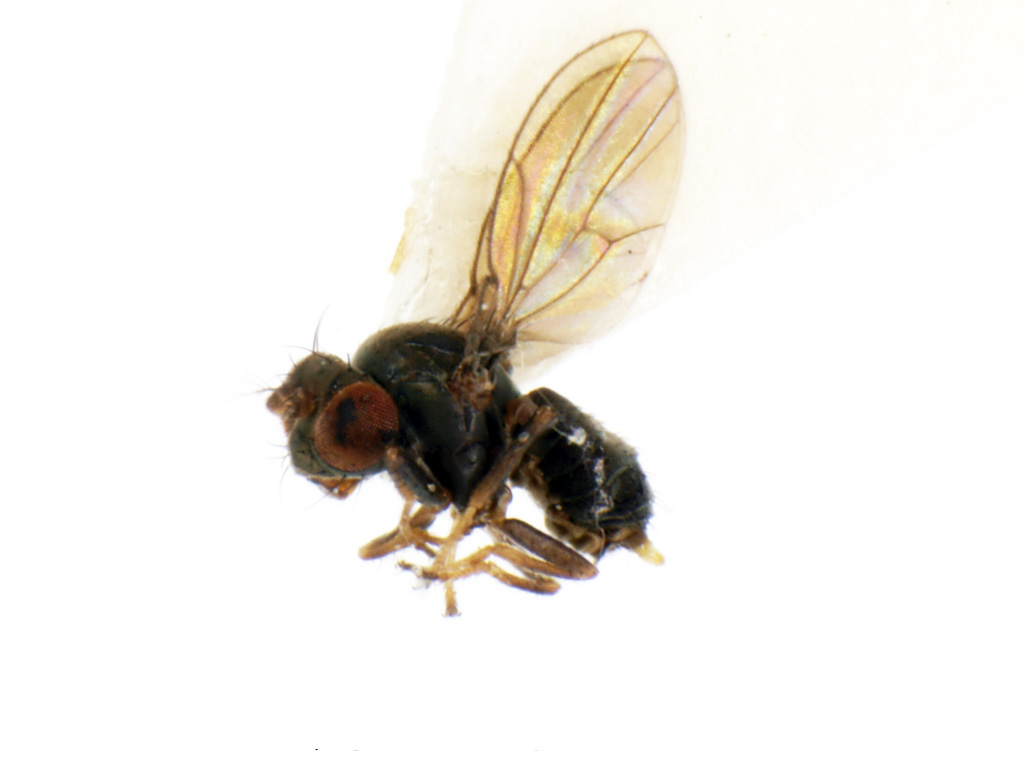Ephydridae: (254, 24, 692, 619)
